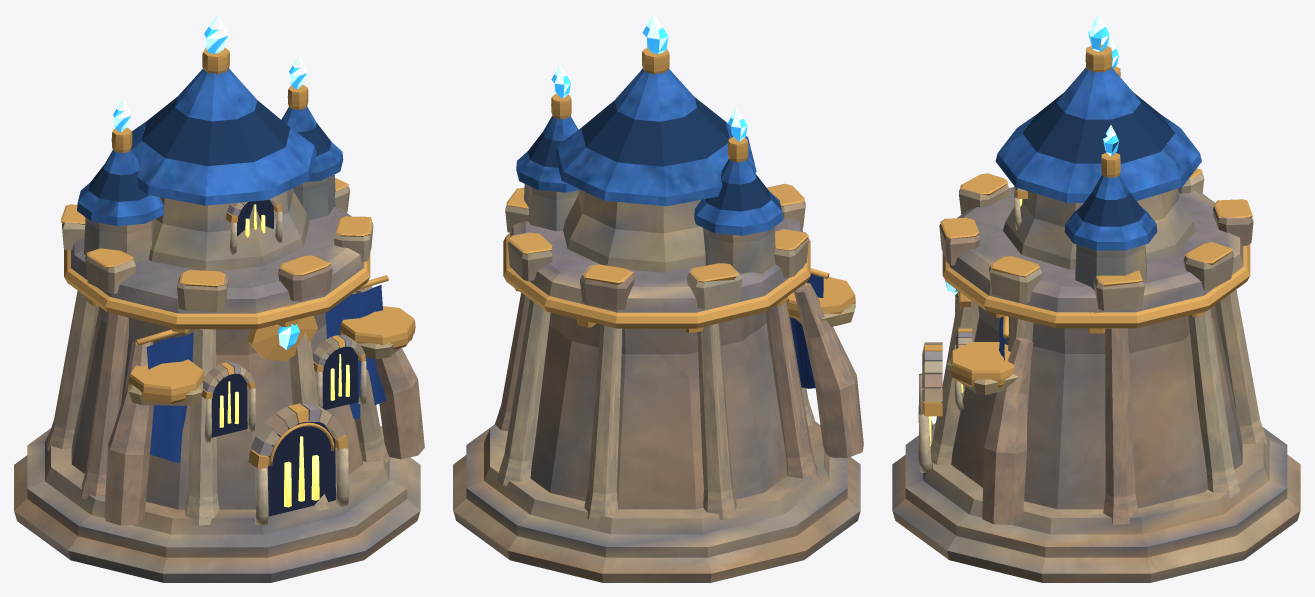
The model's file is citadel.glb.
3 renders of one model, left to right at view 1: azimuth 30°, elevation 25°; view 2: azimuth 150°, elevation 25°; view 3: azimuth 270°, elevation 25°, orthographic.
Parts seen in each view (by area): view 1: 04 Blue keep | Slate and limestone | hand-painted atlas, 04 Blue keep | source | Satin brass | sunlit rims, 04 Blue keep | source | Azure glazed tiles, 04 Blue keep | source | Azure roof undersides, 04 Blue keep | source | Recesses, Animated textile | banner | Indigo banner cloth, Animated textile | banner.001 | Indigo banner cloth, 04 Blue keep | source | Amber lantern glass, 04 Blue keep | source | Aether | frosted facet, 04 Blue keep | source | Aether | cyan face; view 2: 04 Blue keep | Slate and limestone | hand-painted atlas, 04 Blue keep | source | Azure glazed tiles, 04 Blue keep | source | Satin brass | sunlit rims, 04 Blue keep | source | Azure roof undersides, Animated textile | banner | Indigo banner cloth, 04 Blue keep | source | Aether | cyan face, 04 Blue keep | source | Aether | frosted facet; view 3: 04 Blue keep | Slate and limestone | hand-painted atlas, 04 Blue keep | source | Satin brass | sunlit rims, 04 Blue keep | source | Azure glazed tiles, 04 Blue keep | source | Azure roof undersides, 04 Blue keep | source | Aether | cyan face.
Part boxes in pixels (x1=…): 04 Blue keep | Slate and limestone | hand-painted atlas: x1=14, y1=174, x2=424, y2=582; 04 Blue keep | source | Satin brass | sunlit rims: x1=60, y1=47, x2=415, y2=468; 04 Blue keep | source | Azure glazed tiles: x1=77, y1=68, x2=343, y2=226; 04 Blue keep | source | Azure roof undersides: x1=88, y1=97, x2=331, y2=201; 04 Blue keep | source | Recesses: x1=211, y1=199, x2=358, y2=516; Animated textile | banner | Indigo banner cloth: x1=146, y1=332, x2=193, y2=462; Animated textile | banner.001 | Indigo banner cloth: x1=325, y1=285, x2=386, y2=419; 04 Blue keep | source | Amber lantern glass: x1=219, y1=204, x2=349, y2=507; 04 Blue keep | source | Aether | frosted facet: x1=113, y1=14, x2=307, y2=349; 04 Blue keep | source | Aether | cyan face: x1=113, y1=27, x2=306, y2=349; 04 Blue keep | Slate and limestone | hand-painted atlas: x1=453, y1=183, x2=863, y2=582; 04 Blue keep | source | Azure glazed tiles: x1=516, y1=68, x2=783, y2=235; 04 Blue keep | source | Satin brass | sunlit rims: x1=503, y1=47, x2=855, y2=333; 04 Blue keep | source | Azure roof undersides: x1=528, y1=97, x2=771, y2=211; Animated textile | banner | Indigo banner cloth: x1=789, y1=274, x2=823, y2=388; 04 Blue keep | source | Aether | cyan face: x1=551, y1=26, x2=747, y2=141; 04 Blue keep | source | Aether | frosted facet: x1=554, y1=14, x2=746, y2=141; 04 Blue keep | Slate and limestone | hand-painted atlas: x1=892, y1=173, x2=1300, y2=582; 04 Blue keep | source | Satin brass | sunlit rims: x1=922, y1=44, x2=1252, y2=416; 04 Blue keep | source | Azure glazed tiles: x1=995, y1=67, x2=1201, y2=250; 04 Blue keep | source | Azure roof undersides: x1=1022, y1=92, x2=1174, y2=226; 04 Blue keep | source | Aether | cyan face: x1=945, y1=27, x2=1118, y2=292.
Bounding box in the file's own units: 3.52 × 4.61 × 3.52.
Materials: 9 (2 with a texture image).
